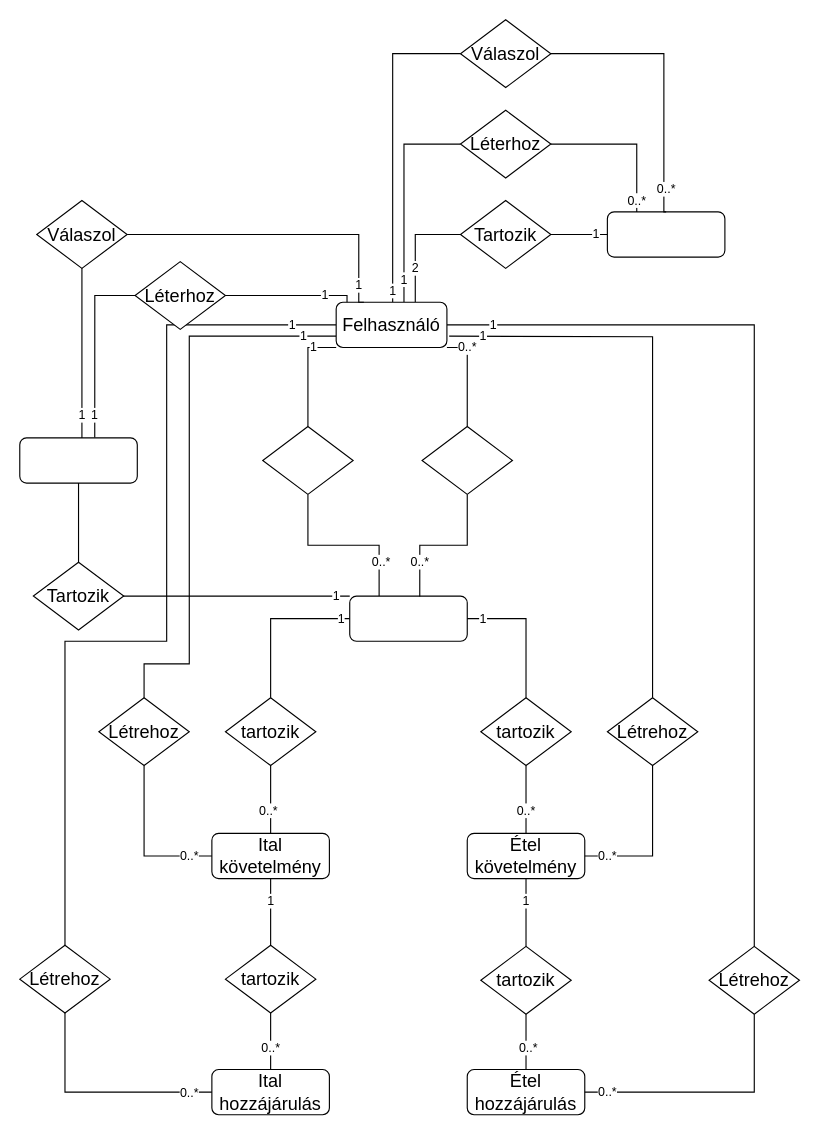
Image size: 819x1135. Some labels were removed from this diagram. Each missing label, with the centre of its shape:
Barát meghívó: pixel 665 234
Party: pixel 408 618
Party meghívó: pixel 78 460
Részvesz: pixel 466 459
Szervez: pixel 307 459
